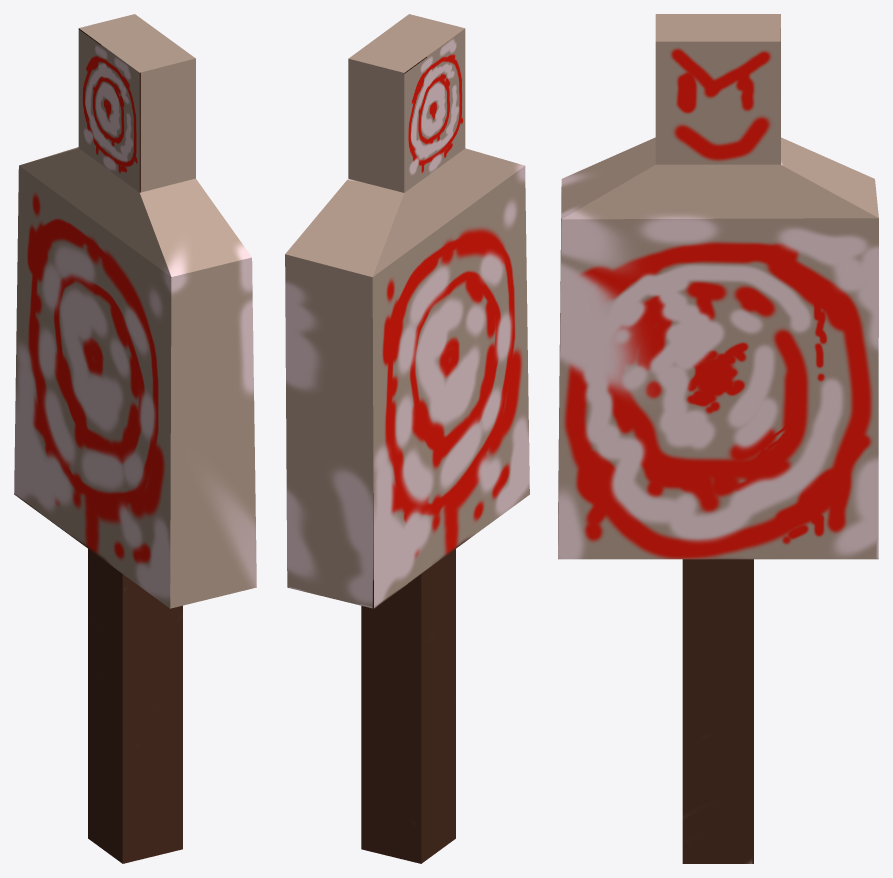
File: dummy.gltf
3 views of the same model, side by side, from view 1: azimuth 30°, elevation 25°; view 2: azimuth 150°, elevation 25°; view 3: azimuth 270°, elevation 25° (orthographic). The views are drawn at different scales.
Parts seen in each view (by area): view 1: dummy; view 2: dummy; view 3: dummy.
Boxes of the visible parts, box(x1,y1,x2,y2) form: dummy: box(14, 14, 256, 863); dummy: box(285, 14, 529, 863); dummy: box(558, 14, 878, 863).
Bounding box in the file's own units: 0.3865 × 3.33 × 1.18.
Materials: 1 (1 with a texture image).
